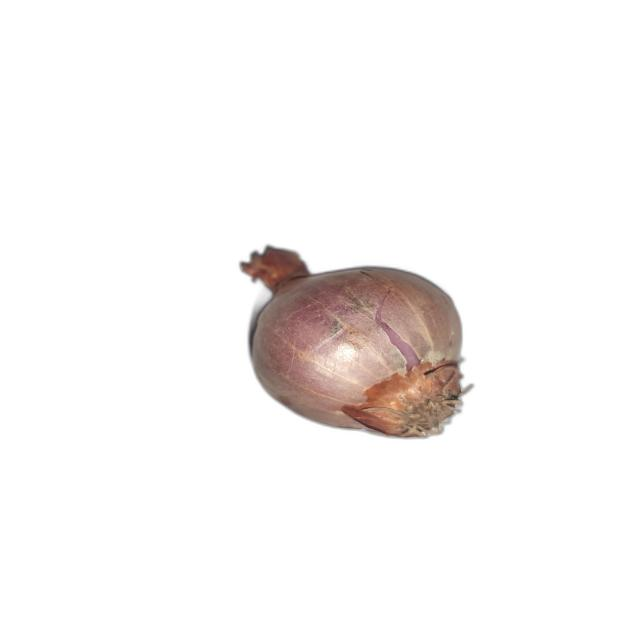onion: (239, 245, 474, 439)
